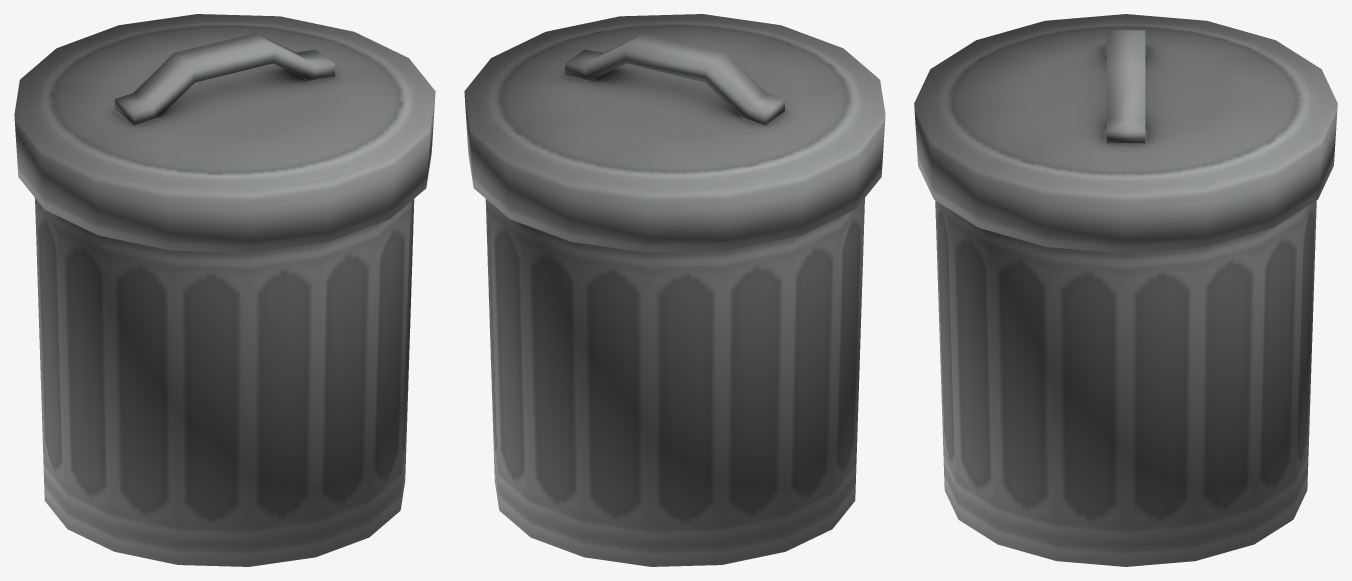
Rendered from sb_obj_ModernCity095_dustbox.fbx.
The picture shows the model from 3 angles, left to right: view 1: azimuth 30°, elevation 25°; view 2: azimuth 150°, elevation 25°; view 3: azimuth 270°, elevation 25°; orthographic projection.
Visible parts, largest first — view 1: sb_obj_ModernCity095_dustbox; view 2: sb_obj_ModernCity095_dustbox; view 3: sb_obj_ModernCity095_dustbox.
Part boxes in pixels (x1,y1,x2,y2): sb_obj_ModernCity095_dustbox: [14, 14, 435, 566]; sb_obj_ModernCity095_dustbox: [464, 14, 885, 566]; sb_obj_ModernCity095_dustbox: [914, 14, 1337, 566].
Size of the model in its own units: 0.871 by 0.9971 by 0.871.
